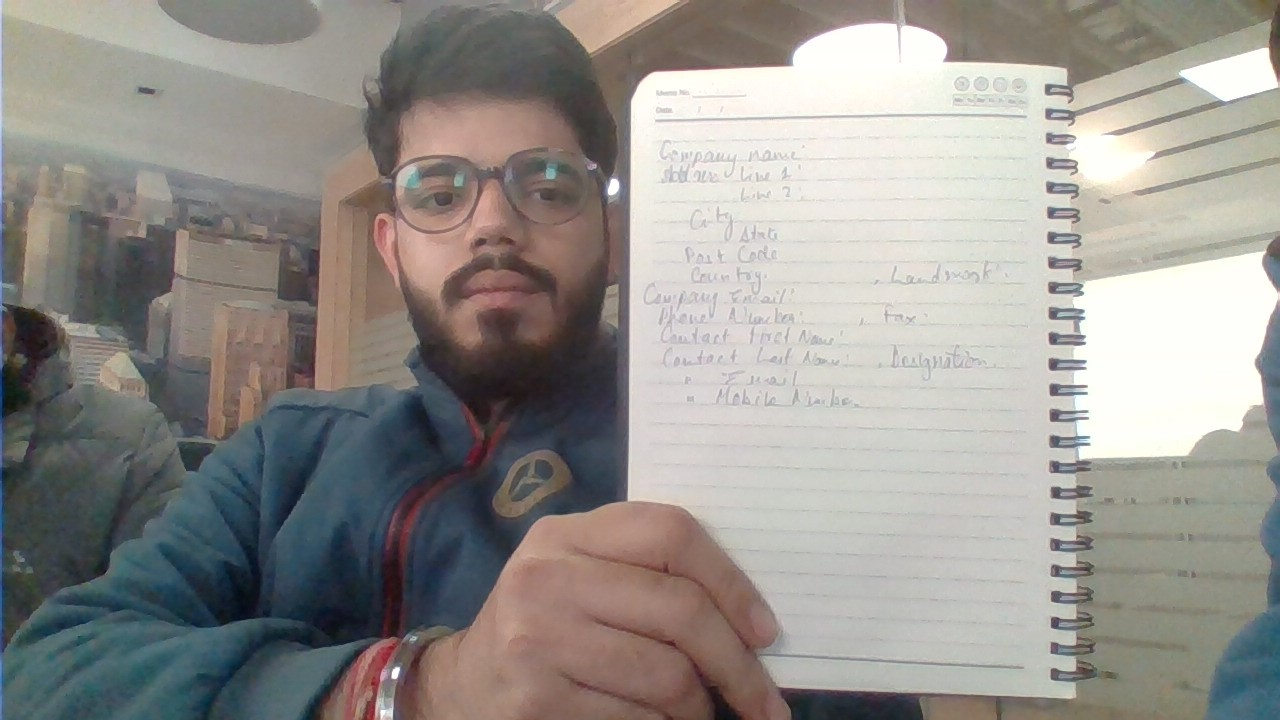notebook: (626, 66, 1098, 704)
